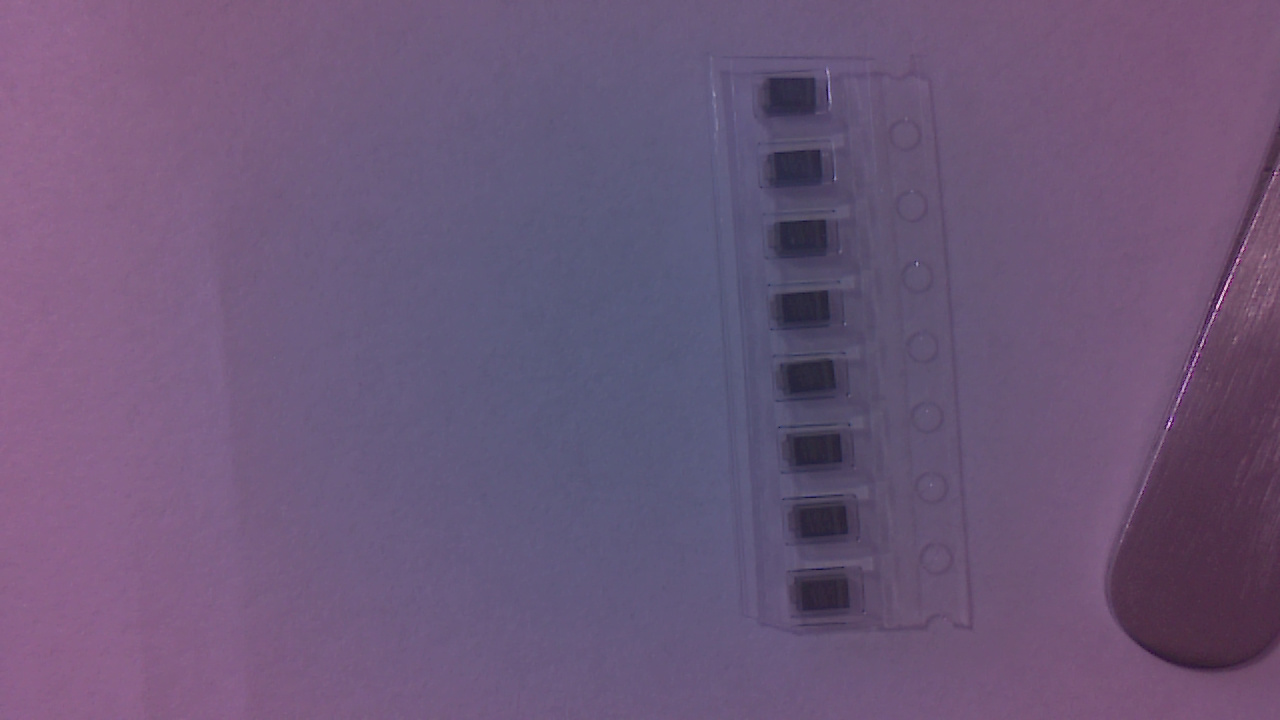Diode: (762, 79, 834, 122), (792, 576, 859, 620), (790, 503, 860, 545), (770, 222, 841, 261), (763, 155, 832, 195), (770, 294, 837, 335), (777, 366, 845, 405), (785, 436, 852, 473)
